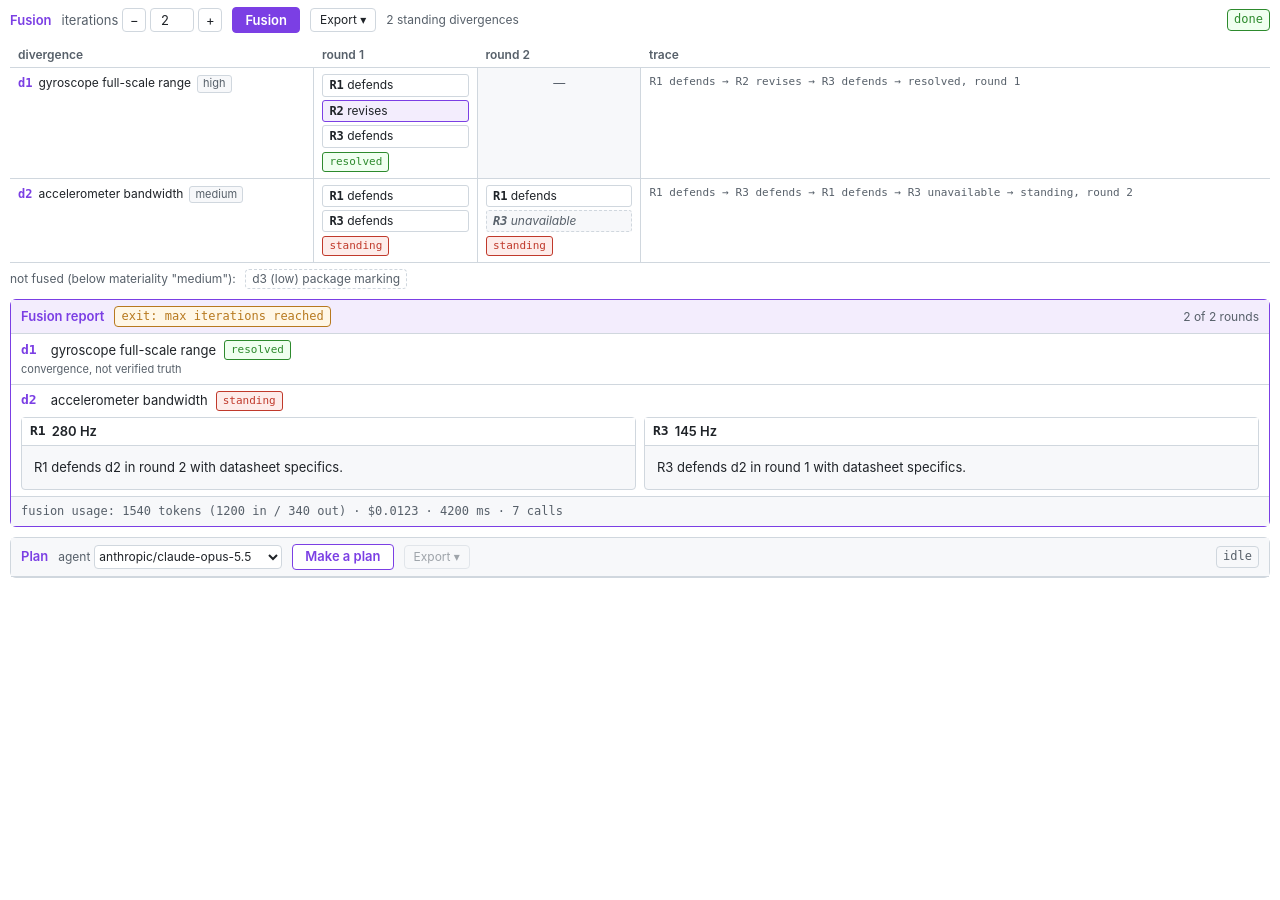
Test: PlanSection: running a stream › an HTTP 409 is shown as an error and nothing is refetched
What coordinates should you click on to do the following:
click the button with test id "plan-run"
I would click on:
 (343, 557)
Its box is left=292, top=544, right=394, bottom=570.
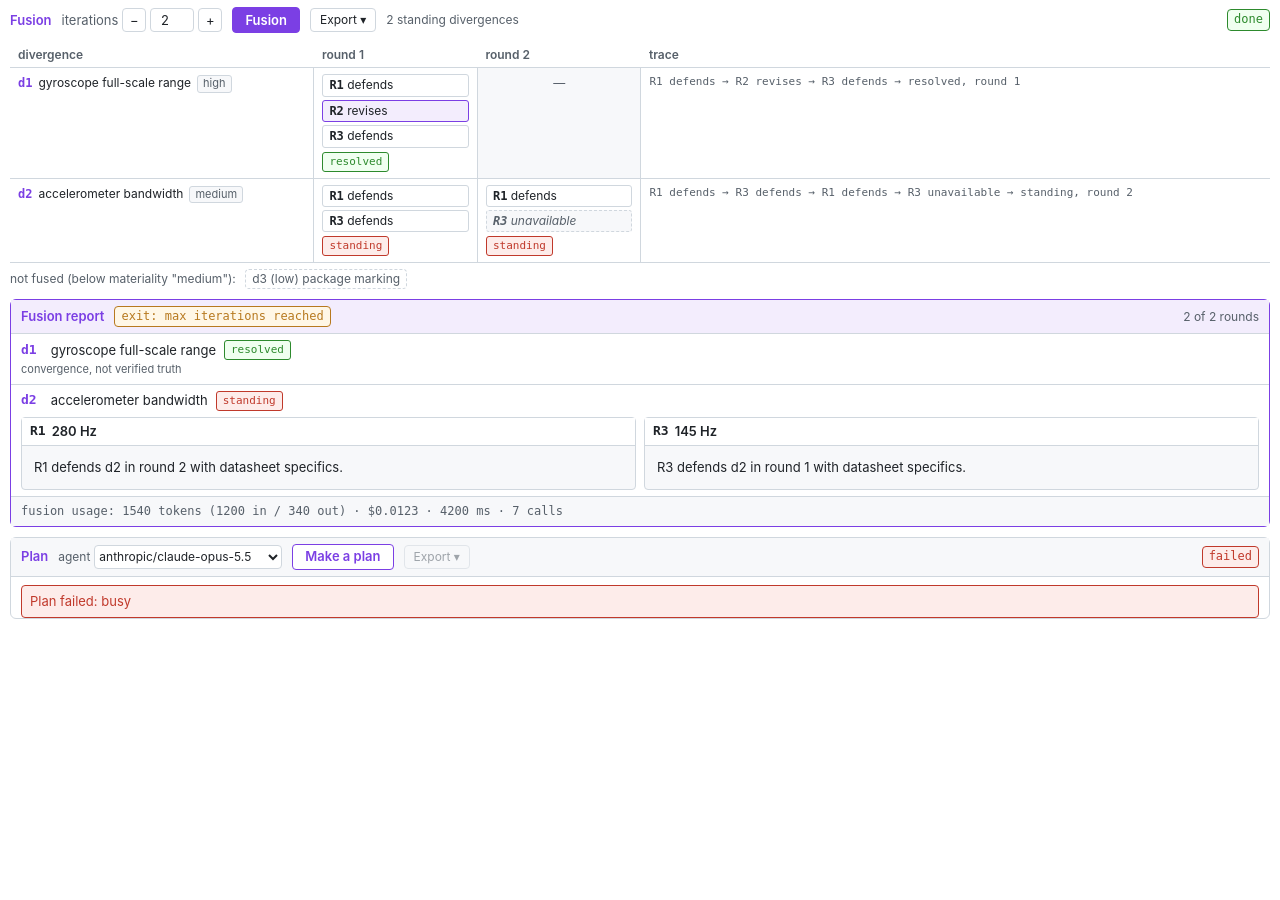
Now the text with test id "plan-error" reads "Plan failed: busy", box left=21, top=585, right=1259, bottom=618
Now the text with test id "plan-status" reads "failed", box left=1209, top=549, right=1252, bottom=563
